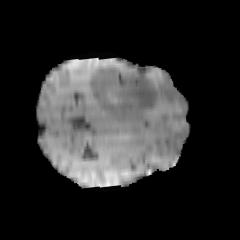glioma: (88, 66, 159, 118)
